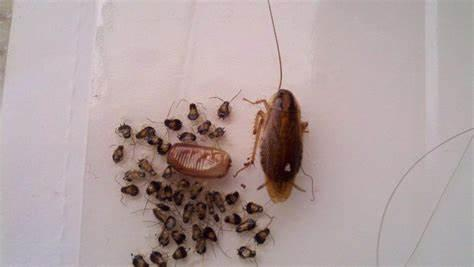cockroach: (252, 86, 304, 198), (234, 244, 258, 260), (148, 249, 169, 267), (252, 227, 270, 246), (235, 220, 259, 234), (156, 225, 170, 248), (138, 160, 159, 175), (212, 192, 226, 214), (142, 180, 160, 196), (202, 226, 220, 242), (121, 169, 146, 180), (170, 246, 188, 261), (244, 202, 263, 216), (216, 101, 230, 120), (134, 126, 156, 138), (190, 180, 203, 200), (170, 229, 186, 245), (152, 207, 169, 222), (131, 253, 149, 267), (119, 121, 132, 140), (163, 118, 182, 130), (195, 201, 207, 220), (181, 203, 193, 222), (195, 236, 207, 255), (187, 101, 199, 120), (224, 214, 241, 227), (121, 183, 138, 196), (198, 118, 210, 136), (178, 132, 196, 144), (191, 222, 203, 240), (111, 144, 123, 162), (156, 141, 172, 154), (210, 126, 226, 138), (226, 191, 240, 204), (206, 192, 214, 214), (146, 134, 162, 145), (174, 189, 184, 206), (164, 184, 173, 202), (163, 162, 173, 178), (154, 202, 170, 210), (178, 179, 190, 189), (165, 216, 175, 228)
